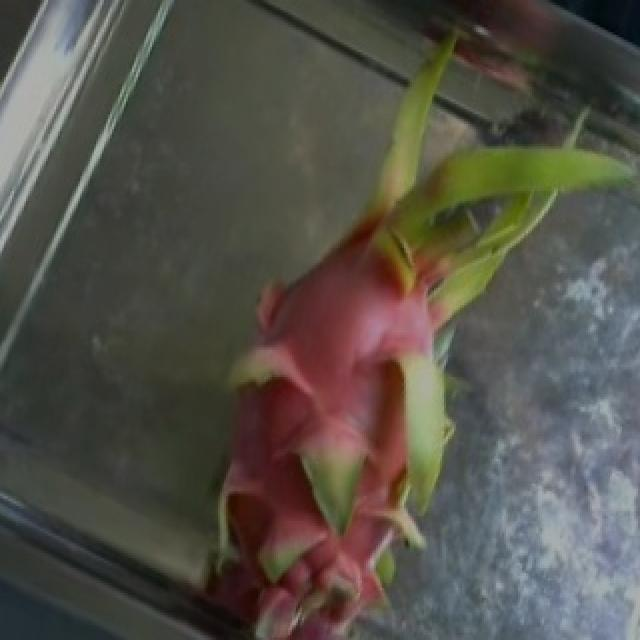fruit: (206, 0, 636, 372), (90, 225, 470, 638)
